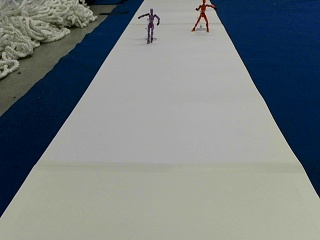pedestrian: (191, 0, 215, 32), (138, 7, 159, 42)
